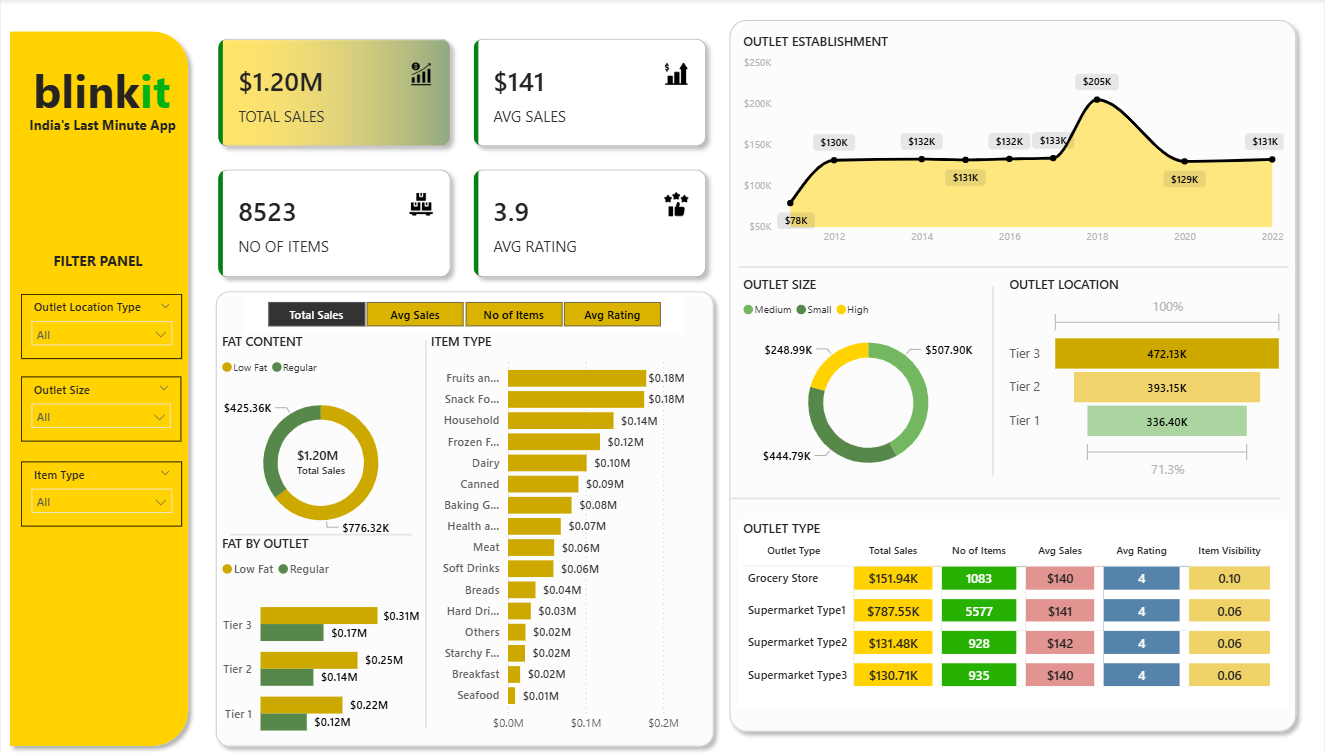

The page's visual inventory and layout, read from the dashboard file:
{"tool":"powerbi","page":{"name":"Page 1","canvas":[1400,800],"ordinal":0},"visuals":[{"type":"shape","box":[0,25.5,207.1,774.4],"z":0},{"type":"textbox","box":[29.1,58.2,156.1,76.7],"z":1000},{"type":"textbox","box":[7.5,118.6,199.6,33],"z":2000},{"type":"cardVisual","fields":{"Data":["BlinkIT Grocery Data.Total Sales","BlinkIT Grocery Data.Avg Sales","BlinkIT Grocery Data.No of Items","BlinkIT Grocery Data.Avg Rating"]},"box":[213.1,25.5,550.8,286.7],"z":3000},{"type":"shape","box":[217.6,300.2,544.8,499.8],"z":4000},{"type":"donutChart","title":"FAT CONTENT","fields":{"Y":["BlinkIT Grocery Data.Total Sales"],"Category":["BlinkIT Grocery Data.Item Fat Content"]},"box":[228.8,353.2,219.6,230.2],"z":5000},{"type":"slicer","fields":{"Values":["Parameter.Parameter"]},"box":[256.6,313.5,465.6,39.7],"z":6000},{"type":"cardVisual","fields":{"Data":["BlinkIT Grocery Data.Total Sales"]},"box":[296.3,451.1,86,76.7],"z":7000},{"type":"clusteredBarChart","title":"FAT BY OUTLET","fields":{"Y":["BlinkIT Grocery Data.Total Sales"],"Category":["BlinkIT Grocery Data.Outlet Location Type"],"Series":["BlinkIT Grocery Data.Item Fat Content"]},"box":[228.8,566.1,219.6,234.1],"z":8000},{"type":"shape","box":[242.1,550.3,193.1,33.1],"z":9000},{"type":"shape","box":[439.2,361.1,21.2,410.1],"z":10000},{"type":"barChart","title":"ITEM TYPE","fields":{"Y":["BlinkIT Grocery Data.Total Sales"],"Category":["BlinkIT Grocery Data.Item Type"]},"box":[449.7,353.2,296.3,431.2],"z":11000},{"type":"shape","box":[761.9,13.2,617.7,771.2],"z":12000},{"type":"lineChart","title":"OUTLET ESTABLISHMENT","fields":{"Category":["BlinkIT Grocery Data.Outlet Establishment Year"],"Y":["BlinkIT Grocery Data.Total Sales"]},"box":[780.4,35.7,582,232.8],"z":13000},{"type":"shape","box":[780.4,267.2,582,33.1],"z":14000},{"type":"donutChart","title":"OUTLET SIZE","fields":{"Y":["BlinkIT Grocery Data.Total Sales"],"Category":["BlinkIT Grocery Data.Outlet Size"]},"box":[780.4,292.3,275.1,224.9],"z":15000},{"type":"shape","box":[1043.7,304.2,11.9,199.7],"z":16000},{"type":"funnel","title":"OUTLET LOCATION","fields":{"Category":["BlinkIT Grocery Data.Outlet Location Type"],"Y":["Sum(BlinkIT Grocery Data.Sales)"]},"box":[1062.2,292.3,300.3,219.6],"z":17000},{"type":"shape","box":[771.2,511.9,582,33.1],"z":18000},{"type":"pivotTable","title":"OUTLET TYPE","fields":{"Rows":["BlinkIT Grocery Data.Outlet Type"],"Values":["BlinkIT Grocery Data.Total Sales","BlinkIT Grocery Data.No of Items","BlinkIT Grocery Data.Avg Sales","BlinkIT Grocery Data.Avg Rating","Avg(BlinkIT Grocery Data.Item Visibility)"]},"box":[780.4,550.3,582,201.1],"z":19000},{"type":"slicer","fields":{"Values":["BlinkIT Grocery Data.Outlet Location Type"]},"box":[21.2,312.2,170.6,68.8],"z":20000},{"type":"slicer","fields":{"Values":["BlinkIT Grocery Data.Outlet Size"]},"box":[21.2,399.5,169.3,68.8],"z":21000},{"type":"slicer","fields":{"Values":["BlinkIT Grocery Data.Item Type"]},"box":[21.2,489.4,170.6,68.8],"z":22000},{"type":"textbox","box":[35.7,261.9,133.6,30.4],"z":22001}]}

Visuals, with their boxes in screenshot pixels (x1, y1, x2, y2), scaled from the page's 1400x800 canvas onto the 1325x755 screenshot:
shape: l=0, t=24, r=196, b=754
textbox: l=28, t=55, r=175, b=127
textbox: l=7, t=112, r=196, b=143
cardVisual - BlinkIT Grocery Data.Total Sales x BlinkIT Grocery Data.Avg Sales: l=202, t=24, r=723, b=295
shape: l=206, t=283, r=722, b=754
"FAT CONTENT" donutChart: l=217, t=333, r=424, b=551
slicer - Parameter.Parameter: l=243, t=296, r=684, b=333
cardVisual - BlinkIT Grocery Data.Total Sales: l=280, t=426, r=362, b=498
"FAT BY OUTLET" clusteredBarChart: l=217, t=534, r=424, b=754
shape: l=229, t=519, r=412, b=551
shape: l=416, t=341, r=436, b=728
"ITEM TYPE" barChart: l=426, t=333, r=706, b=740
shape: l=721, t=12, r=1306, b=740
"OUTLET ESTABLISHMENT" lineChart: l=739, t=34, r=1289, b=253
shape: l=739, t=252, r=1289, b=283
"OUTLET SIZE" donutChart: l=739, t=276, r=999, b=488
shape: l=988, t=287, r=999, b=476
"OUTLET LOCATION" funnel: l=1005, t=276, r=1290, b=483
shape: l=730, t=483, r=1281, b=514
"OUTLET TYPE" pivotTable: l=739, t=519, r=1289, b=709
slicer - BlinkIT Grocery Data.Outlet Location Type: l=20, t=295, r=182, b=360
slicer - BlinkIT Grocery Data.Outlet Size: l=20, t=377, r=180, b=442
slicer - BlinkIT Grocery Data.Item Type: l=20, t=462, r=182, b=527
textbox: l=34, t=247, r=160, b=276
